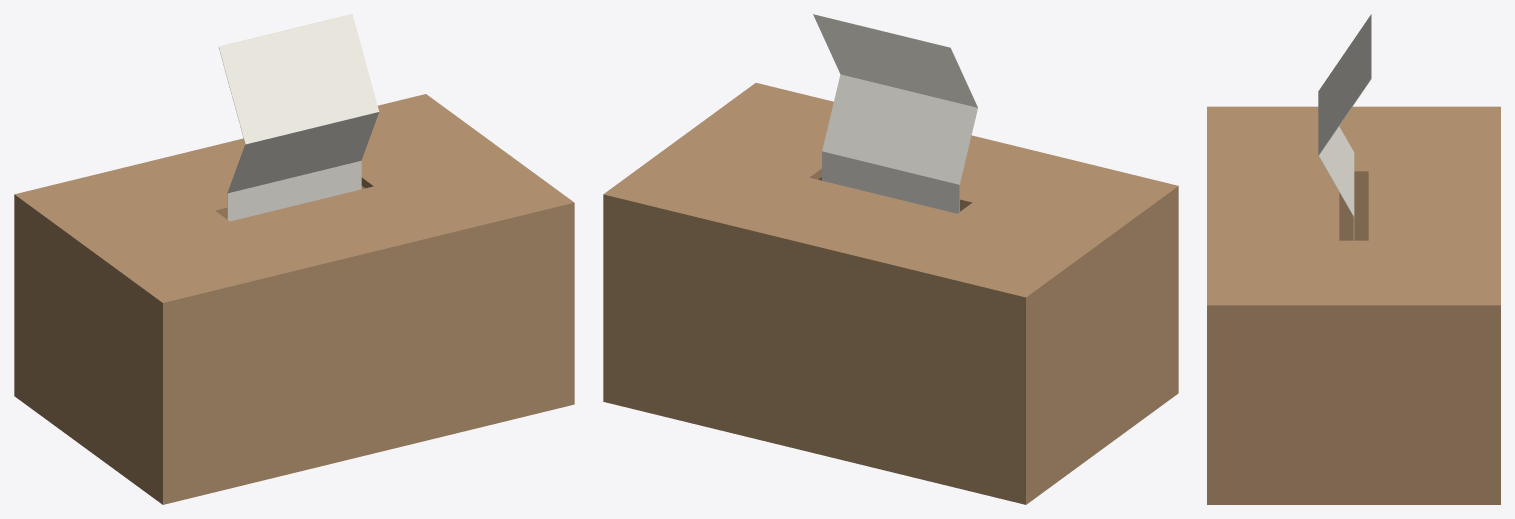
File: tissue.glb
3 views of the same model, side by side, from view 1: azimuth 30°, elevation 25°; view 2: azimuth 150°, elevation 25°; view 3: azimuth 270°, elevation 25° (orthographic). The views are drawn at different scales.
Visible parts, largest first — view 1: life-tissue-side-front, life-tissue-lid, life-tissue-side-left, life-tissue-paper, life-tissue-base, life-tissue-side-right; view 2: life-tissue-side-back, life-tissue-lid, life-tissue-side-left, life-tissue-paper, life-tissue-base, life-tissue-side-right; view 3: life-tissue-lid, life-tissue-side-right, life-tissue-paper, life-tissue-base, life-tissue-side-left.
Boxes of the visible parts, left/top/right/bottom form: life-tissue-side-front: left=170, top=212, right=566, bottom=494; life-tissue-lid: left=14, top=94, right=574, bottom=310; life-tissue-side-left: left=14, top=202, right=170, bottom=496; life-tissue-paper: left=218, top=14, right=379, bottom=221; life-tissue-base: left=14, top=388, right=574, bottom=504; life-tissue-side-right: left=567, top=210, right=574, bottom=398; life-tissue-side-back: left=611, top=204, right=1018, bottom=494; life-tissue-lid: left=603, top=83, right=1178, bottom=305; life-tissue-side-left: left=1018, top=194, right=1178, bottom=496; life-tissue-paper: left=813, top=14, right=977, bottom=213; life-tissue-base: left=603, top=385, right=1178, bottom=504; life-tissue-side-right: left=603, top=202, right=611, bottom=395; life-tissue-lid: left=1207, top=106, right=1500, bottom=313; life-tissue-side-right: left=1207, top=313, right=1500, bottom=496; life-tissue-paper: left=1318, top=14, right=1371, bottom=240; life-tissue-base: left=1207, top=497, right=1500, bottom=504; life-tissue-side-left: left=1339, top=179, right=1368, bottom=240.
Size of the model in its own units: 0.16 by 0.135 by 0.1.
